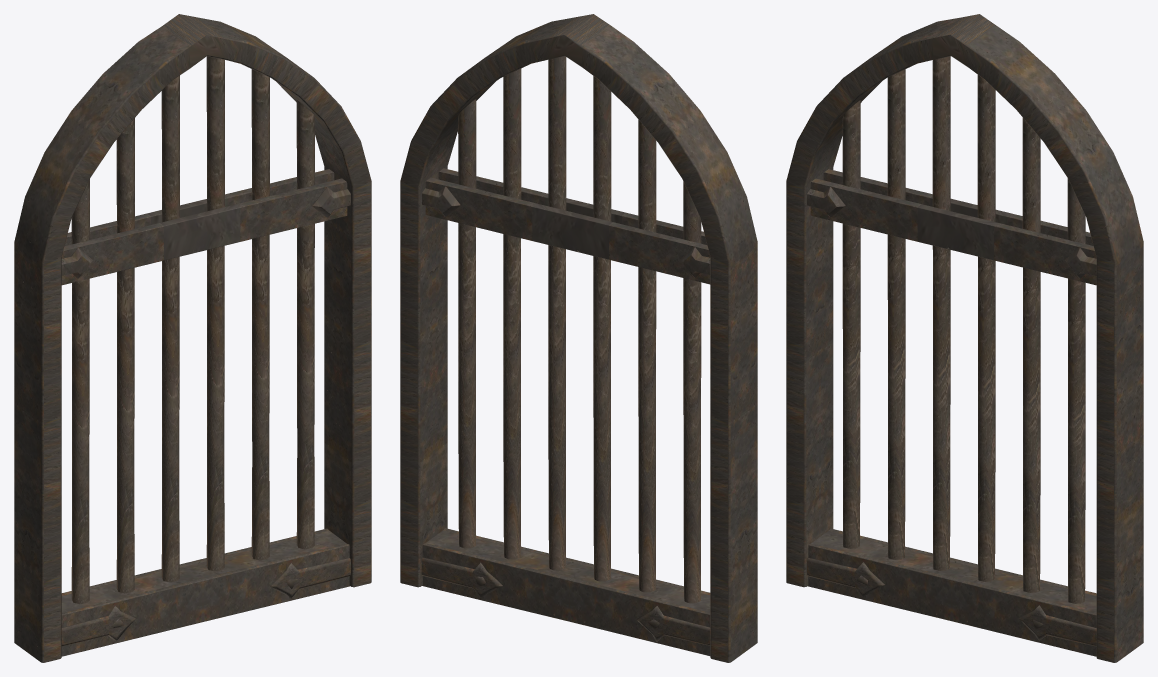
3 views of the same model, side by side, from view 1: azimuth 30°, elevation 25°; view 2: azimuth 150°, elevation 25°; view 3: azimuth 330°, elevation 25° (orthographic).
Parts seen in each view (by area): view 1: SM_DR_Statue_LibraryBase_Door_A_01_LOD0; view 2: SM_DR_Statue_LibraryBase_Door_A_01_LOD0; view 3: SM_DR_Statue_LibraryBase_Door_A_01_LOD0.
Boxes of the visible parts, x1,y1,x2,y2 form: SM_DR_Statue_LibraryBase_Door_A_01_LOD0: (14,14,371,662); SM_DR_Statue_LibraryBase_Door_A_01_LOD0: (400,14,757,662); SM_DR_Statue_LibraryBase_Door_A_01_LOD0: (786,14,1143,662).
Size of the model in its own units: 2.2 by 3.75 by 0.335.
2 materials, 2 textured.
